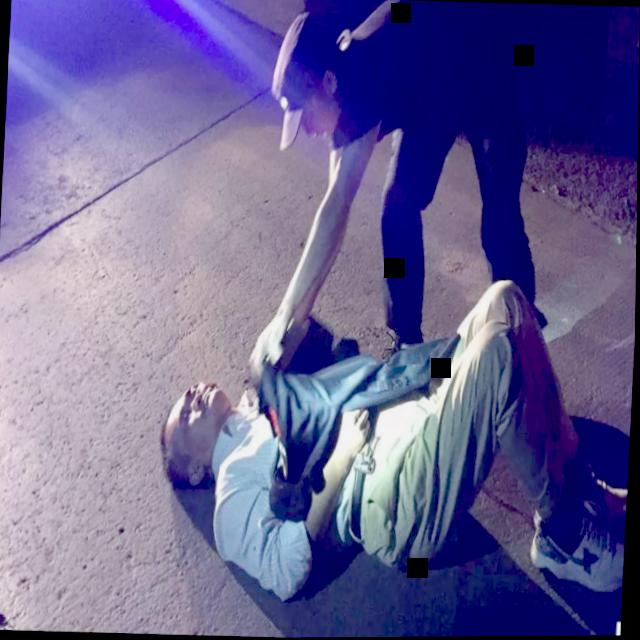Fall-Detected: (137, 260, 637, 618)
